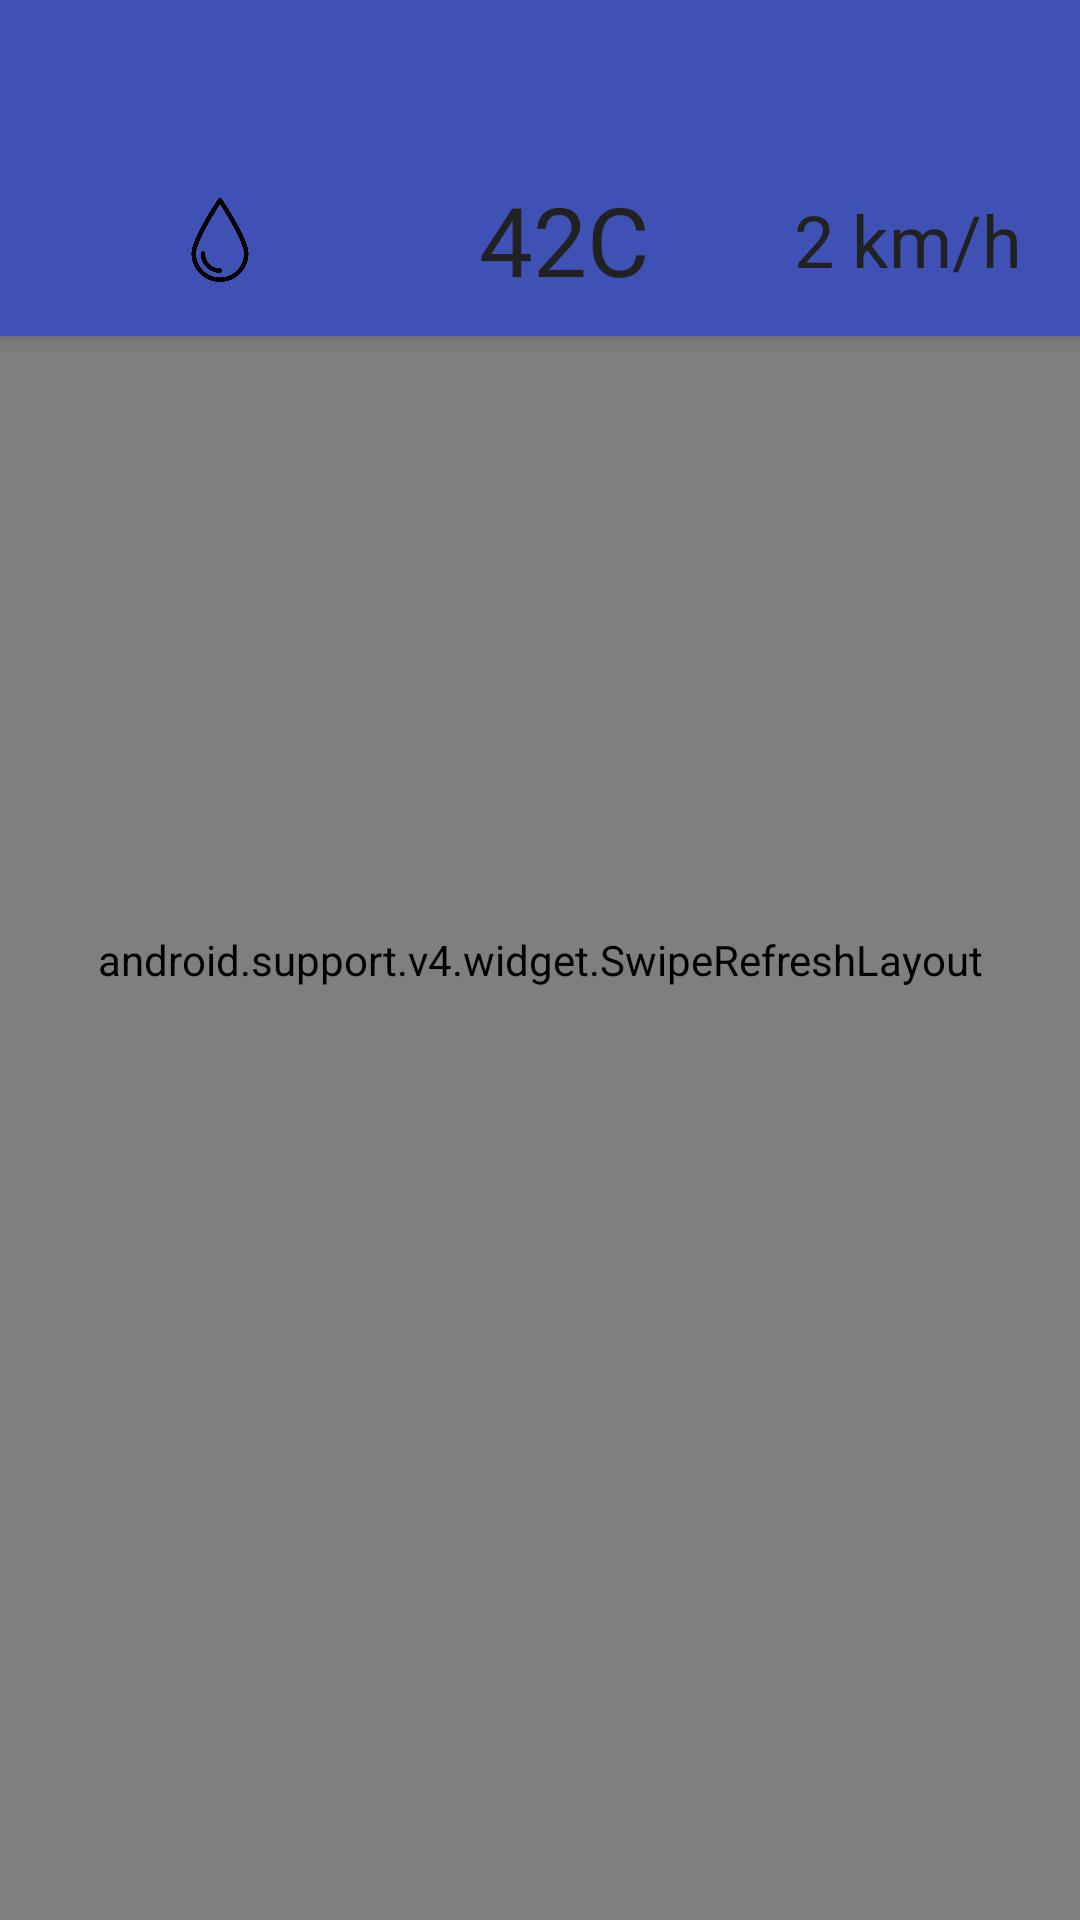

Named icons in this screenshot (1080×1920) and their centers, (x=x, y=y):
drop: (x=220, y=240)
